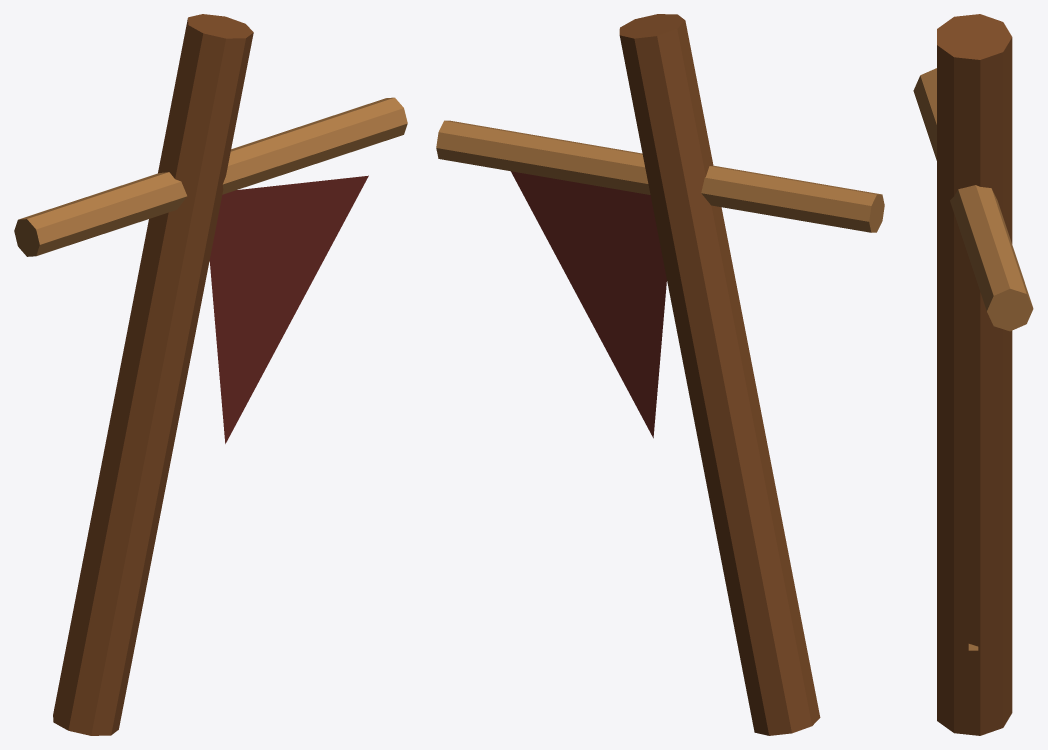
Rendered from SM_BrokenMast_A.glb.
The picture shows the model from 3 angles, left to right: view 1: azimuth 30°, elevation 25°; view 2: azimuth 150°, elevation 25°; view 3: azimuth 270°, elevation 25°; orthographic projection. The views are drawn at different scales.
Parts seen in each view (by area): view 1: SM_BrokenMast_A; view 2: SM_BrokenMast_A; view 3: SM_BrokenMast_A.
Boxes of the visible parts, x1,y1,x2,y2 form: SM_BrokenMast_A: (14,14,407,735); SM_BrokenMast_A: (436,14,884,735); SM_BrokenMast_A: (913,14,1033,735).
Size of the model in its own units: 3.81 by 6.08 by 0.8655.
